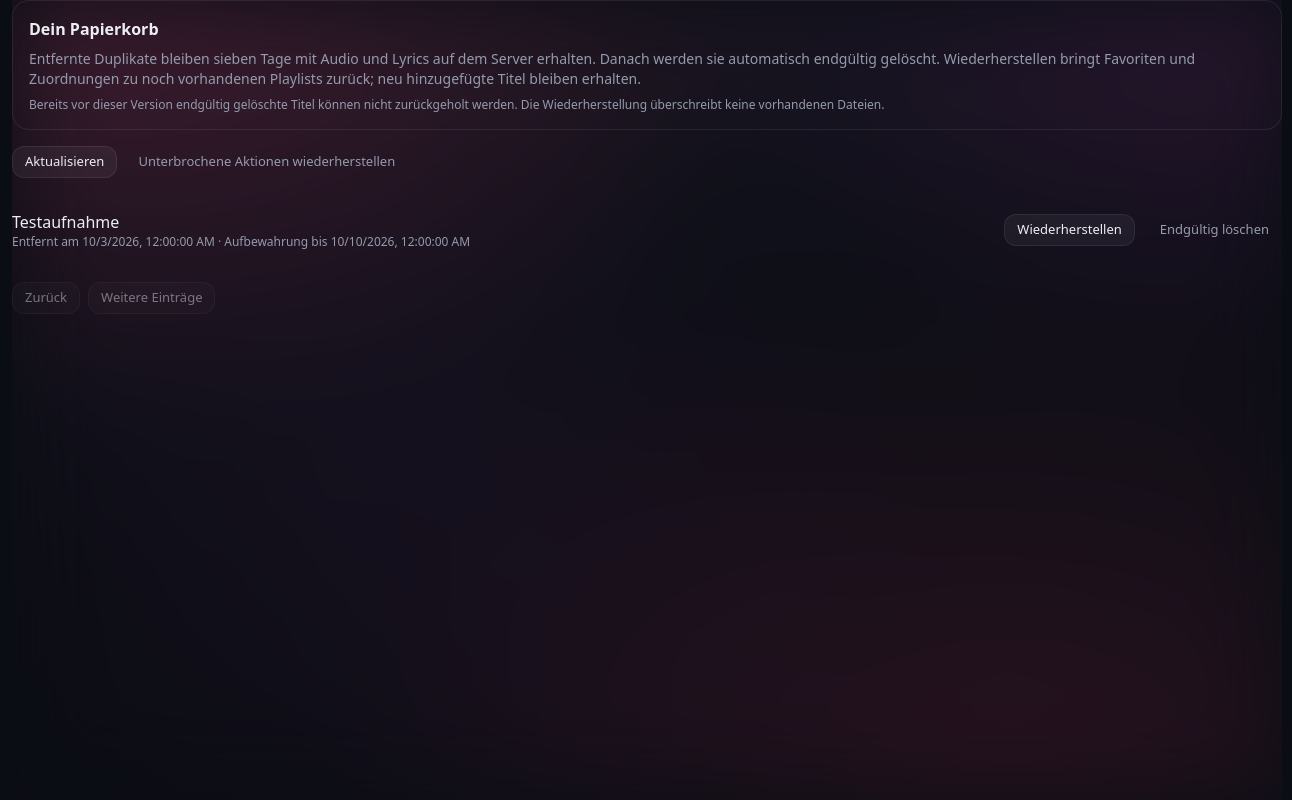
Test: Trash restoration and permanent consent › keeps a failed restoration visible and allows retry
Expected: the text "Testaufnahme" is shown, [12, 211, 119, 233]
Step 1. Click the button "Wiederherstellen" → point(1070, 230), box [1004, 214, 1135, 246]
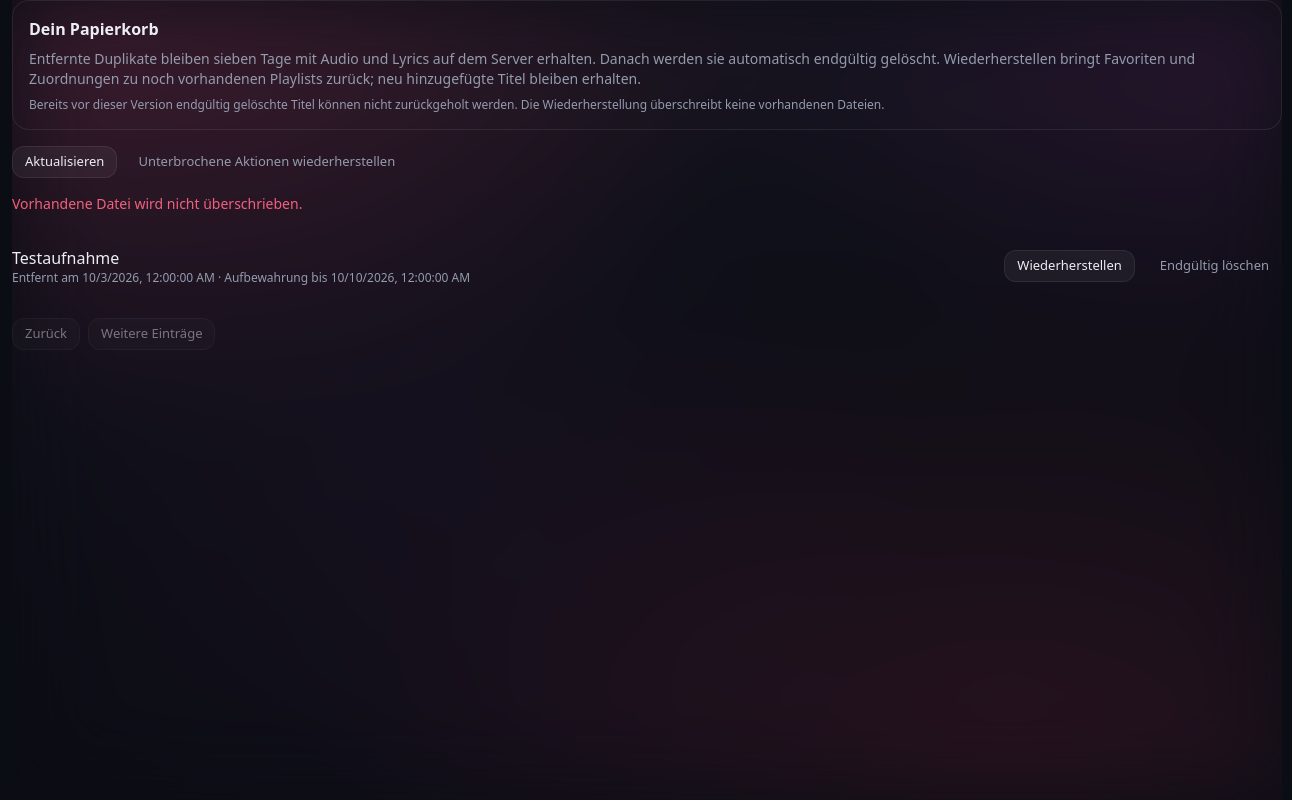
Expected: the message shows "nicht überschrieben", [12, 194, 302, 213]
Step 2. Click the button "Wiederherstellen" → point(1070, 266), box [1004, 250, 1135, 282]
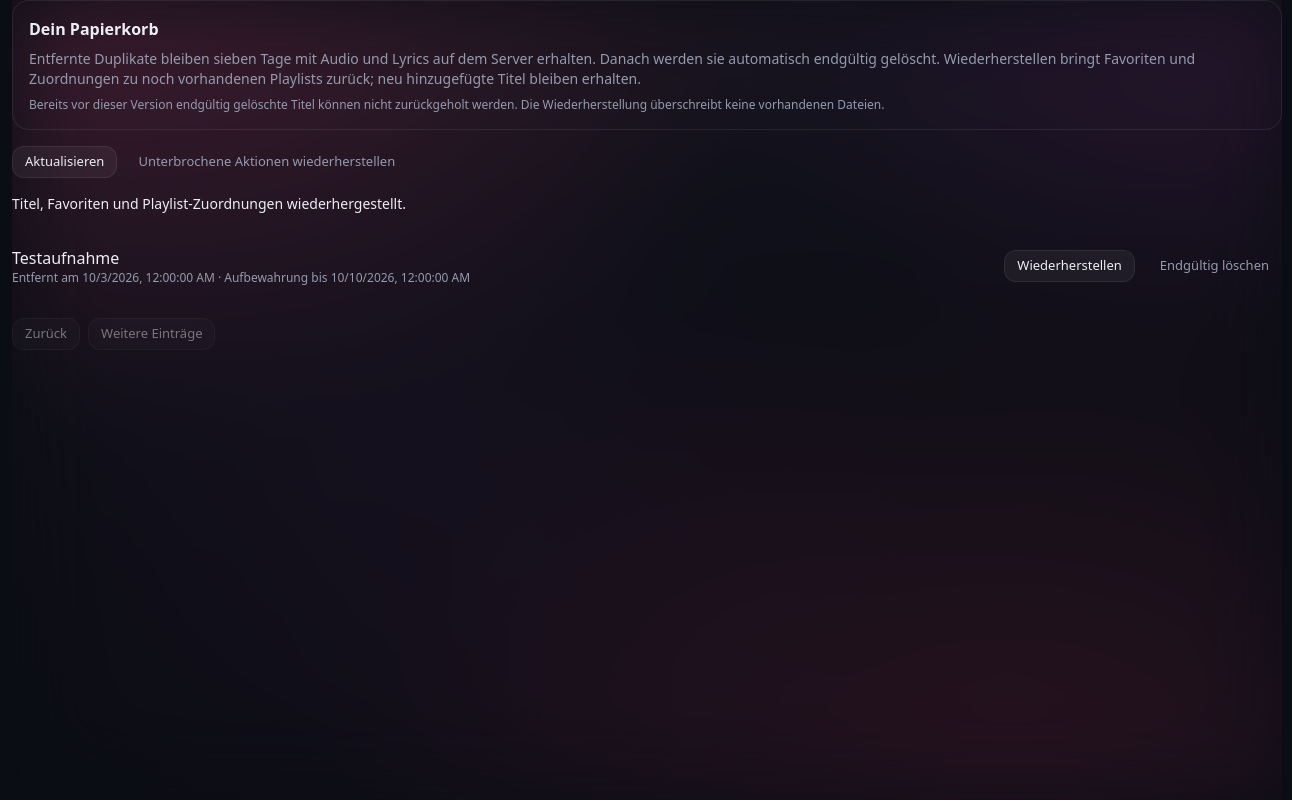
Expected: the text "Titel, Favoriten und Playlist-Zuordnungen wiederhergestellt." is shown, [12, 194, 406, 213]
